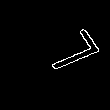L_SW: (17, 29, 93, 81)
